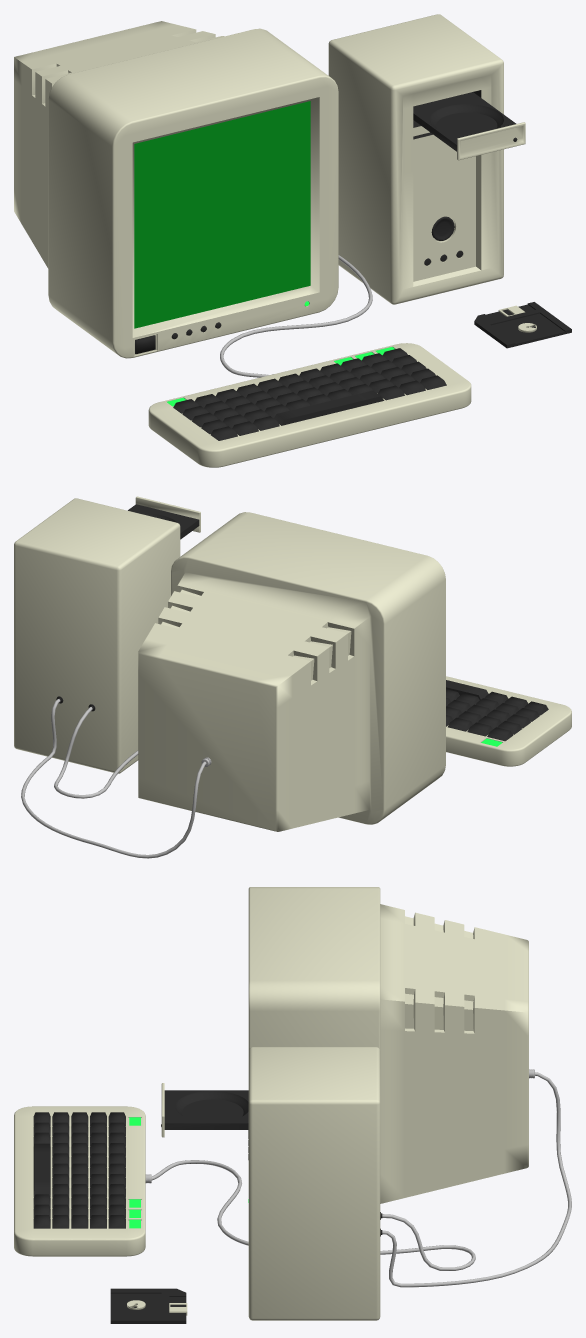
Rendered from old_computer.glb.
The picture shows the model from 3 angles, top to bottom: view 1: azimuth 30°, elevation 25°; view 2: azimuth 150°, elevation 25°; view 3: azimuth 270°, elevation 25°; orthographic projection. The views are drawn at different scales.
Parts seen in each view (by area): view 1: Monitor, CPU, Keyboard, Disk Tray, Floppy Disk; view 2: Monitor, CPU, Keyboard, Disk Tray; view 3: Monitor, CPU, Keyboard, Disk Tray, Floppy Disk.
Part boxes in pixels (x1,y1,x2,y2): Monitor: (14, 21, 338, 358); CPU: (328, 14, 503, 304); Keyboard: (148, 255, 471, 467); Disk Tray: (413, 92, 525, 160); Floppy Disk: (474, 302, 571, 348); Monitor: (21, 512, 445, 858); CPU: (14, 498, 180, 773); Keyboard: (54, 676, 571, 798); Disk Tray: (128, 496, 200, 539); Monitor: (248, 887, 571, 1287); CPU: (248, 1047, 382, 1320); Keyboard: (14, 1106, 475, 1270); Disk Tray: (161, 1083, 248, 1137); Floppy Disk: (110, 1288, 187, 1323).
Bounding box in the file's own units: 7.34 × 4.29 × 8.49.
